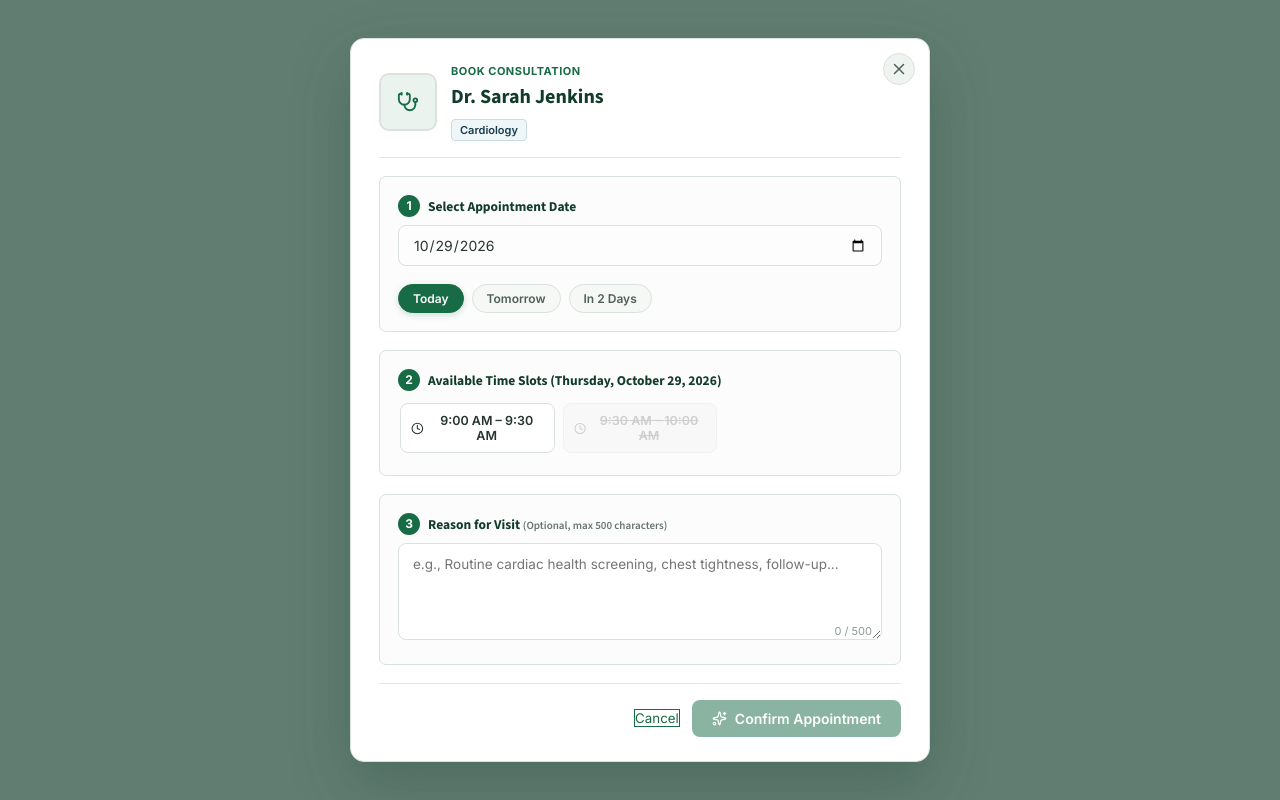
BookingModal Component › prompts for auth token if unauthenticated when confirming
The width and height of the screenshot is (1280, 800).
Expected: the text "9:00 AM – 9:30 AM" is shown, [440,413,533,443]
Click the button "9:00 AM – 9:30 AM" at (477, 428), box [400,403,555,453]
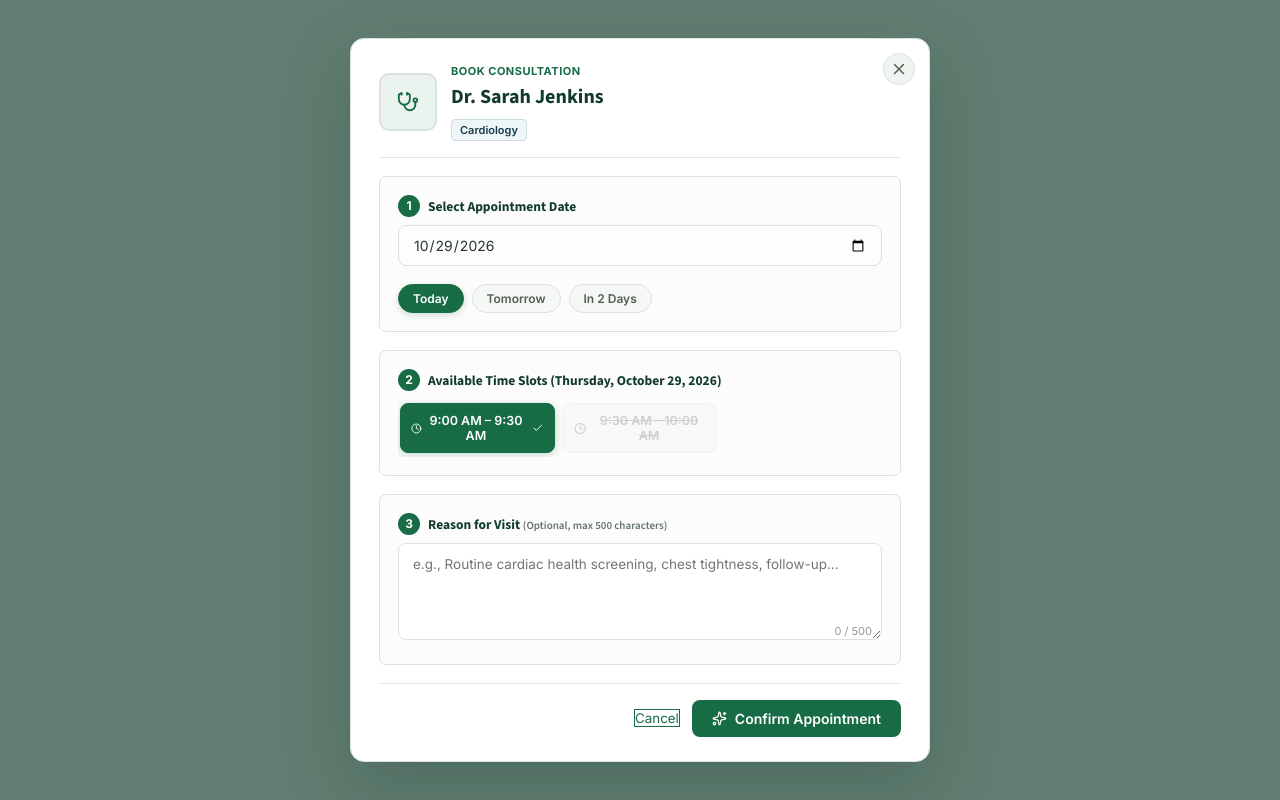
Click the button "Confirm Appointment" at (796, 718), box [692,700,901,737]
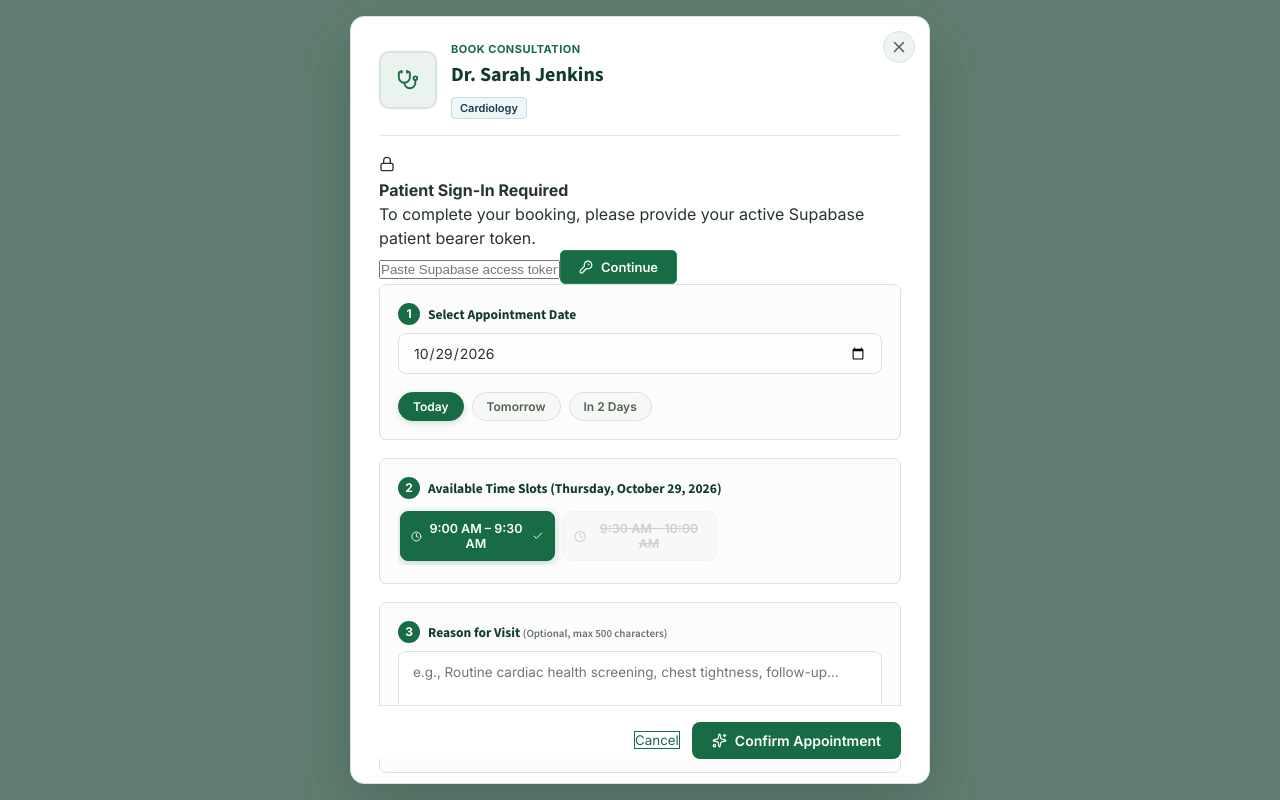
Result: the heading "Patient Sign-In Required" is shown at [379,180,568,200]
